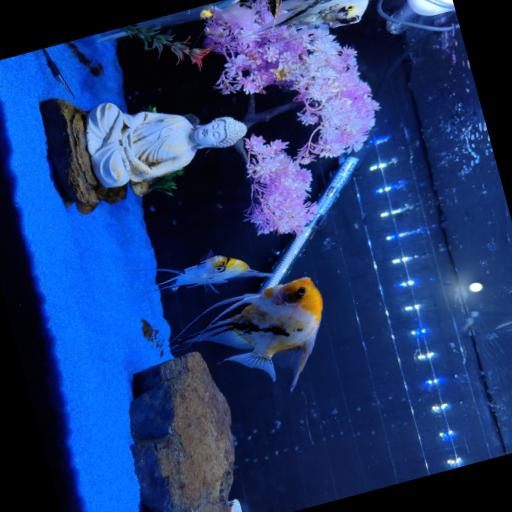Fish: (175, 277, 322, 390), (135, 250, 271, 292), (267, 0, 367, 28), (217, 0, 257, 29)
